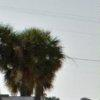Tree: (7, 18, 70, 96)
